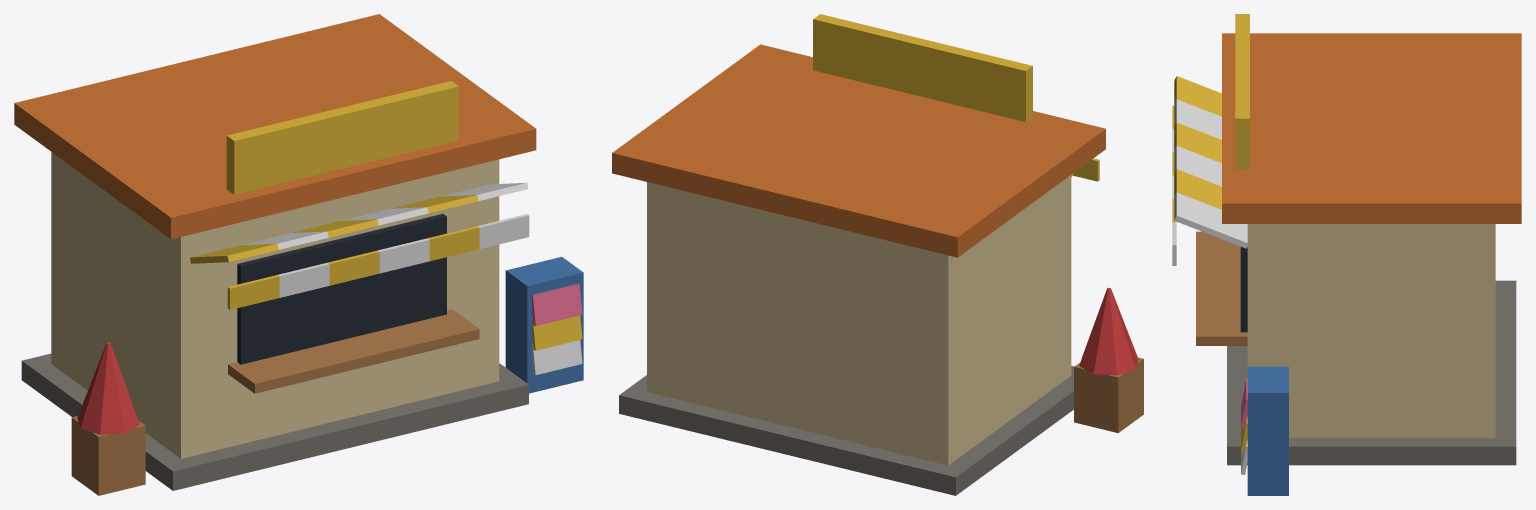
The model's file is kiosk.gltf.
The picture shows the model from 3 angles, left to right: view 1: azimuth 30°, elevation 25°; view 2: azimuth 150°, elevation 25°; view 3: azimuth 270°, elevation 25°; orthographic projection. The views are drawn at different scales.
Visible parts, largest first — view 1: kiosk; view 2: kiosk; view 3: kiosk.
Part boxes in pixels (bbox=[...]): kiosk: bbox=[14, 14, 583, 495]; kiosk: bbox=[612, 14, 1143, 495]; kiosk: bbox=[1172, 14, 1521, 495].
Bounding box in the file's own units: 5.2 × 3.38 × 3.38.
